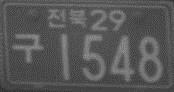1: (57, 32, 73, 84)
2: (89, 9, 108, 33)
4: (110, 32, 136, 84)
5: (81, 31, 106, 82)
8: (138, 35, 163, 83)
9: (109, 8, 127, 33)
구: (13, 31, 45, 64)
전북_O: (47, 8, 87, 31)
